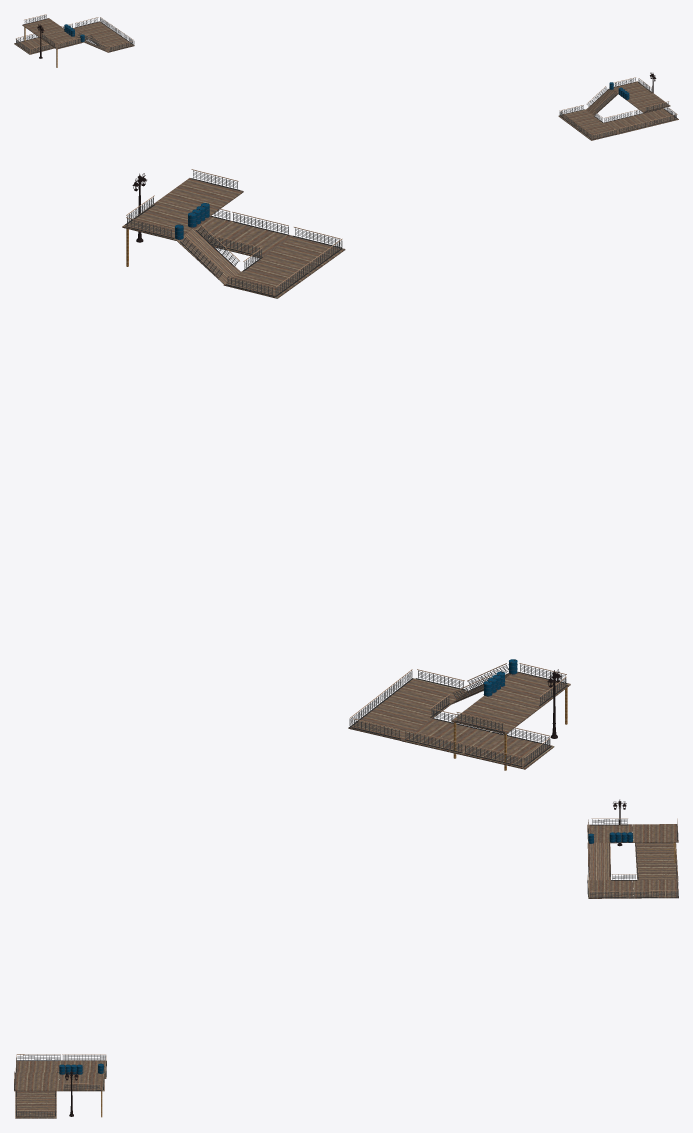
File: stage_garden.glb
The picture shows the model from 3 angles, top to bottom: view 1: azimuth 30°, elevation 25°; view 2: azimuth 150°, elevation 25°; view 3: azimuth 270°, elevation 25°; orthographic projection. The views are drawn at different scales.
Parts seen in each view (by area): view 1: wood_base.010, wood_base.006, wood_base.001, wood_base.002, wood_base.007, wood_base.011, wood_base.004, wood_base.003, wood_base.012, wood_base.014, wood_base.009, wood_base.008; view 2: wood_base.003, wood_base.007, wood_base.012, wood_base.014, wood_base.006, wood_base.002, wood_base.013, wood_base.011, wood_base.010, wood_base.004, wood_base.009, wood_base.008; view 3: wood_base.010, wood_base.001, wood_base.012, wood_base.005, wood_base.003, wood_base.011, wood_base.013, wood_base.009, wood_base.014, wood_base.004, wood_base.006.
Part boxes in pixels (x1,y1,x2,y2): wood_base.010: [627, 93, 670, 112]; wood_base.006: [575, 122, 618, 140]; wood_base.001: [633, 108, 678, 126]; wood_base.002: [604, 115, 648, 134]; wood_base.007: [558, 109, 600, 128]; wood_base.011: [91, 33, 134, 52]; wood_base.004: [39, 30, 83, 49]; wood_base.003: [22, 18, 64, 36]; wood_base.012: [74, 21, 116, 39]; wood_base.014: [14, 37, 54, 54]; wood_base.009: [613, 81, 653, 100]; wood_base.008: [586, 88, 617, 115]; wood_base.003: [451, 696, 538, 734]; wood_base.007: [223, 260, 311, 298]; wood_base.012: [348, 703, 435, 740]; wood_base.014: [463, 732, 554, 769]; wood_base.006: [259, 236, 345, 274]; wood_base.002: [207, 221, 292, 258]; wood_base.013: [401, 718, 491, 755]; wood_base.011: [382, 678, 466, 716]; wood_base.010: [156, 178, 243, 216]; wood_base.004: [484, 671, 570, 709]; wood_base.009: [122, 202, 209, 240]; wood_base.008: [176, 228, 240, 283]; wood_base.010: [14, 1072, 59, 1091]; wood_base.001: [15, 1097, 56, 1118]; wood_base.012: [633, 879, 678, 898]; wood_base.005: [587, 842, 610, 880]; wood_base.003: [632, 824, 678, 842]; wood_base.011: [588, 880, 633, 898]; wood_base.013: [636, 860, 678, 880]; wood_base.009: [59, 1072, 104, 1091]; wood_base.014: [635, 842, 676, 860]; wood_base.004: [587, 824, 633, 843]; wood_base.006: [16, 1060, 61, 1078].
Bounding box in the file's own units: 80.17 × 6.78 × 80.99.
7 materials, 6 textured.
